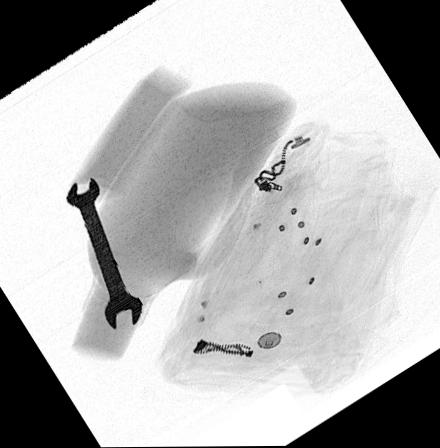Wrench: (64, 177, 143, 332)
